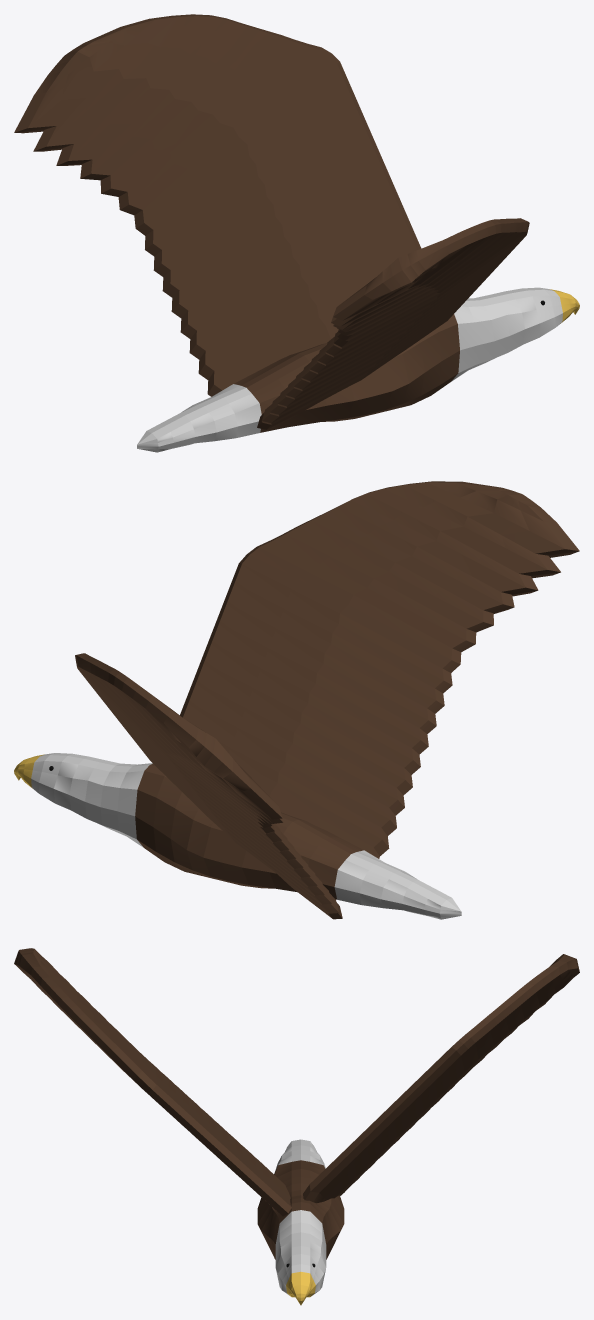
File: Eagle.fbx
The picture shows the model from 3 angles, top to bottom: view 1: azimuth 30°, elevation 25°; view 2: azimuth 150°, elevation 25°; view 3: azimuth 270°, elevation 25°; orthographic projection. The views are drawn at different scales.
Parts seen in each view (by area): view 1: Plane.002, Plane, Plane.001; view 2: Plane.001, Plane, Plane.002; view 3: Plane.002, Plane.001, Plane.
Part boxes in pixels (x1,y1,x2,y2): Plane.002: [14, 14, 421, 396]; Plane: [137, 287, 579, 452]; Plane.001: [257, 218, 529, 429]; Plane.001: [180, 481, 579, 858]; Plane: [14, 753, 461, 919]; Plane.002: [75, 653, 342, 919]; Plane.002: [302, 954, 579, 1203]; Plane.001: [14, 948, 291, 1216]; Plane: [257, 1139, 344, 1305].
Bounding box in the file's own units: 471 × 311 × 602.
